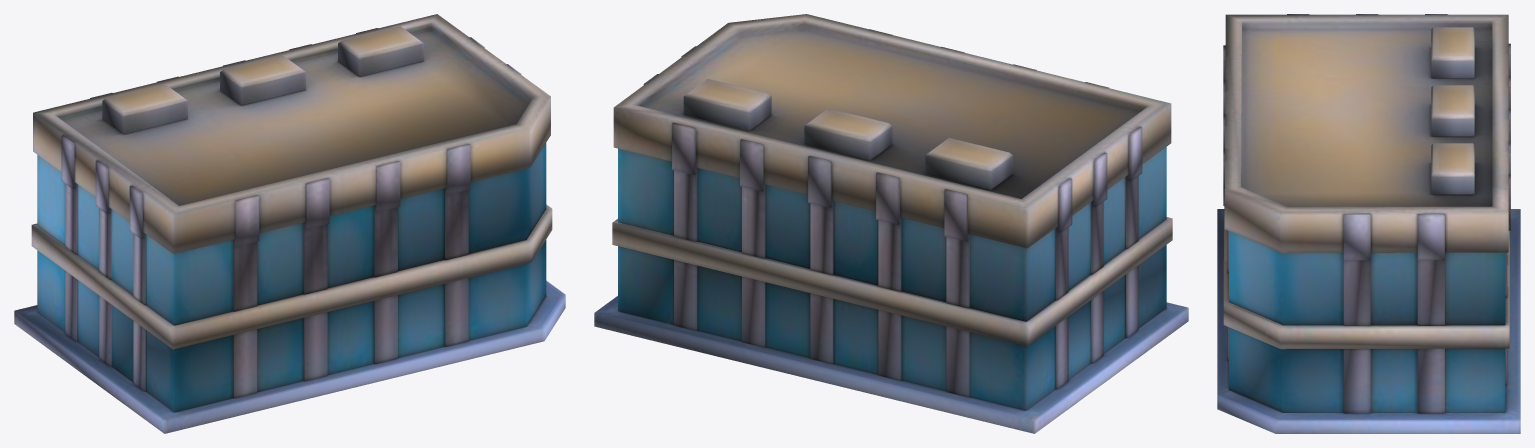
File: Bank.glb
The picture shows the model from 3 angles, left to right: view 1: azimuth 30°, elevation 25°; view 2: azimuth 150°, elevation 25°; view 3: azimuth 270°, elevation 25°; orthographic projection. The views are drawn at different scales.
Parts seen in each view (by area): view 1: bank_low; view 2: bank_low; view 3: bank_low.
Part boxes in pixels (x1,y1,x2,y2): bank_low: (14, 14, 565, 433); bank_low: (594, 14, 1188, 433); bank_low: (1217, 14, 1520, 433).
Bounding box in the file's own units: 11.57 × 5.83 × 7.
1 material, 1 textured.
